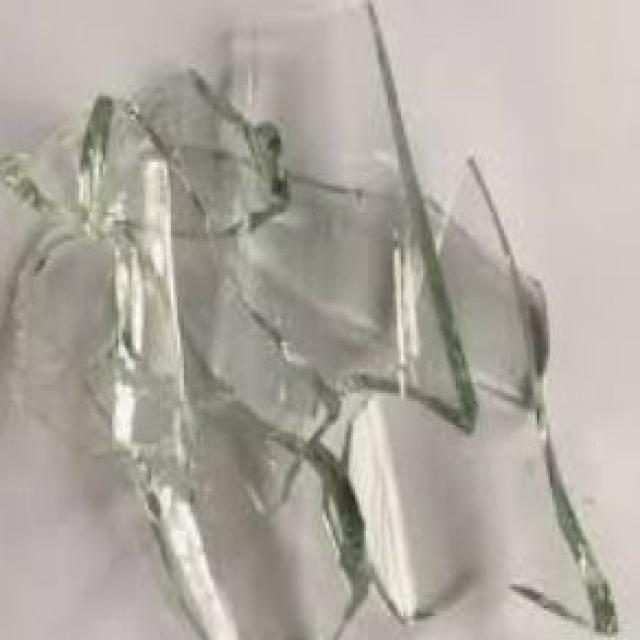electronic: (4, 0, 623, 640)
